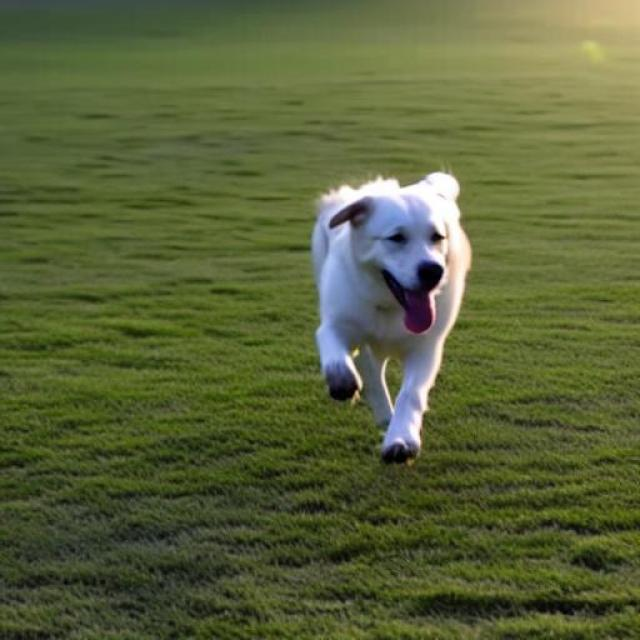Dog: (310, 172, 472, 463)
